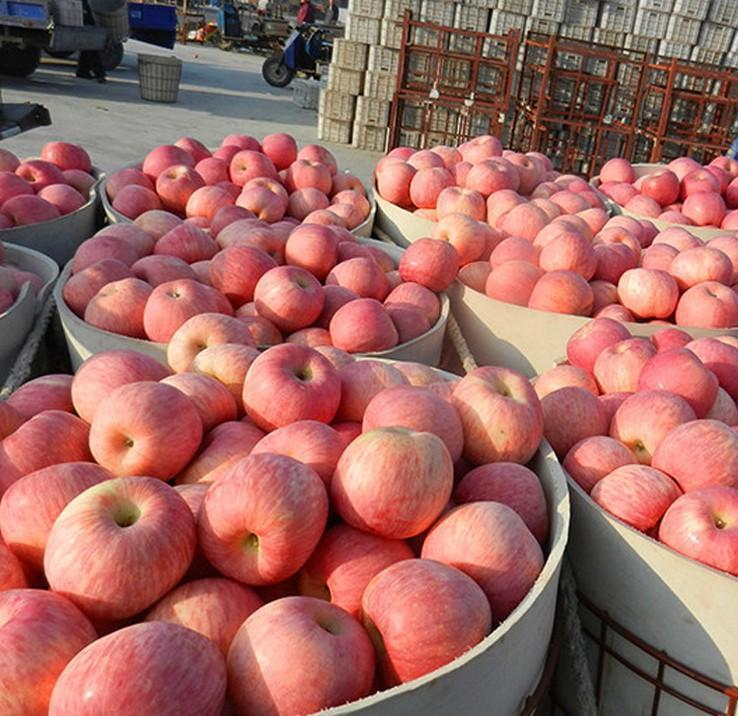apple: (0, 334, 556, 705), (359, 136, 731, 324), (100, 132, 376, 261), (377, 138, 600, 238), (49, 620, 229, 715), (597, 151, 738, 230), (446, 362, 545, 467), (242, 343, 343, 432), (0, 145, 100, 232), (457, 461, 550, 552), (9, 167, 91, 219), (40, 140, 92, 173), (37, 183, 84, 215)
